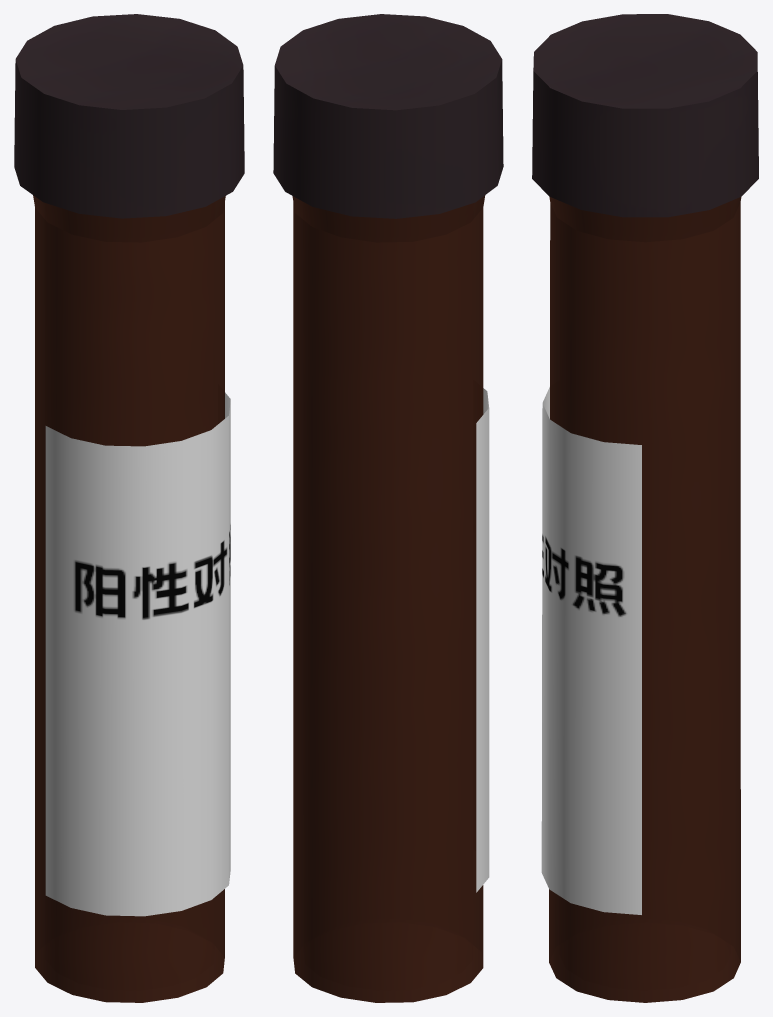
File: 阳性对照.glb
3 renders of one model, left to right at view 1: azimuth 30°, elevation 25°; view 2: azimuth 150°, elevation 25°; view 3: azimuth 270°, elevation 25°, orthographic.
Visible parts, largest first — view 1: 一抗原液.002, 一抗原液.001, DAPI染液.002; view 2: 一抗原液.001, DAPI染液.002, 一抗原液.002; view 3: 一抗原液.001, 一抗原液.002, DAPI染液.002.
Boxes of the visible parts, <box> form: 一抗原液.002: <box>45,392,230,916</box>; 一抗原液.001: <box>33,195,225,1002</box>; DAPI染液.002: <box>14,14,244,218</box>; 一抗原液.001: <box>292,195,485,1002</box>; DAPI染液.002: <box>273,14,503,218</box>; 一抗原液.002: <box>476,388,489,892</box>; 一抗原液.001: <box>549,196,741,1002</box>; 一抗原液.002: <box>541,387,641,914</box>; DAPI染液.002: <box>532,14,758,217</box>.
Bounding box in the file's own units: 0.0479 × 0.2098 × 0.0479.
Materials: 2 (2 with a texture image).
